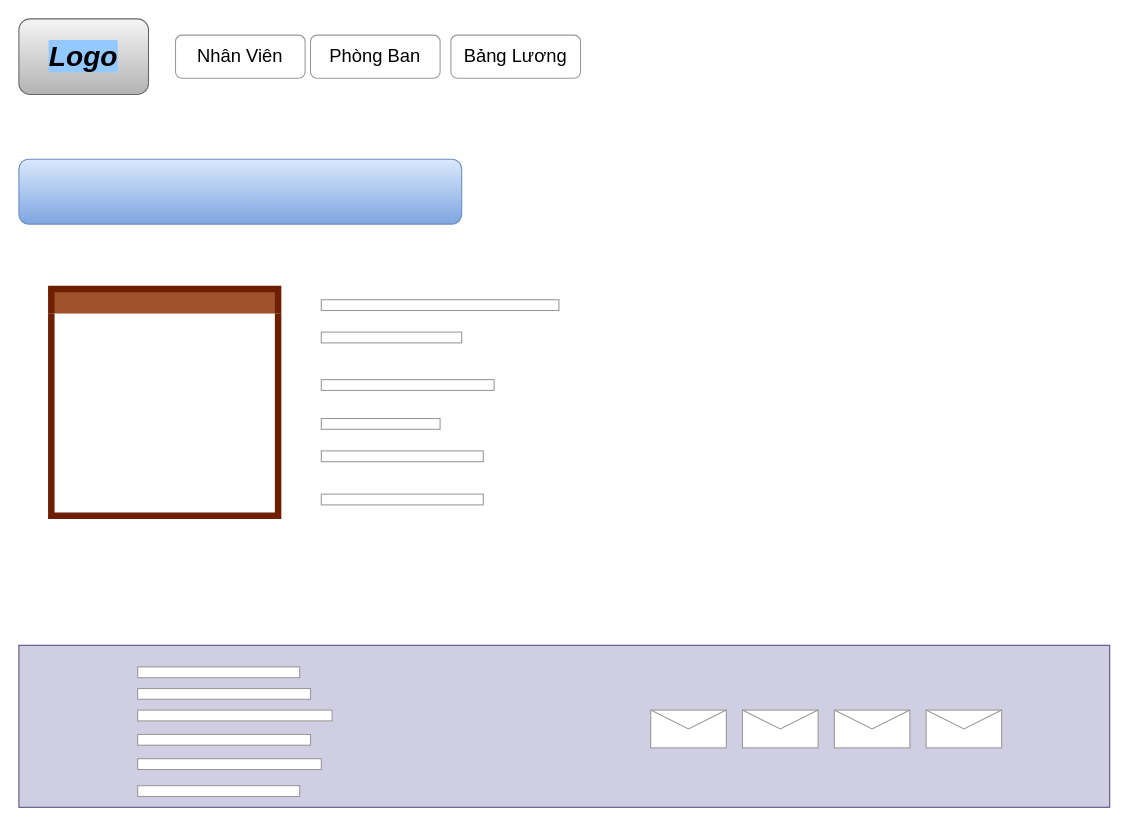
This 1129x826 diagram has some shape labels left out. The centre of each missing label's shape, as x and y in pixels:
Nhân Viên / Tên Nhân Viên: (240,191)
Ảnh: (164,401)
